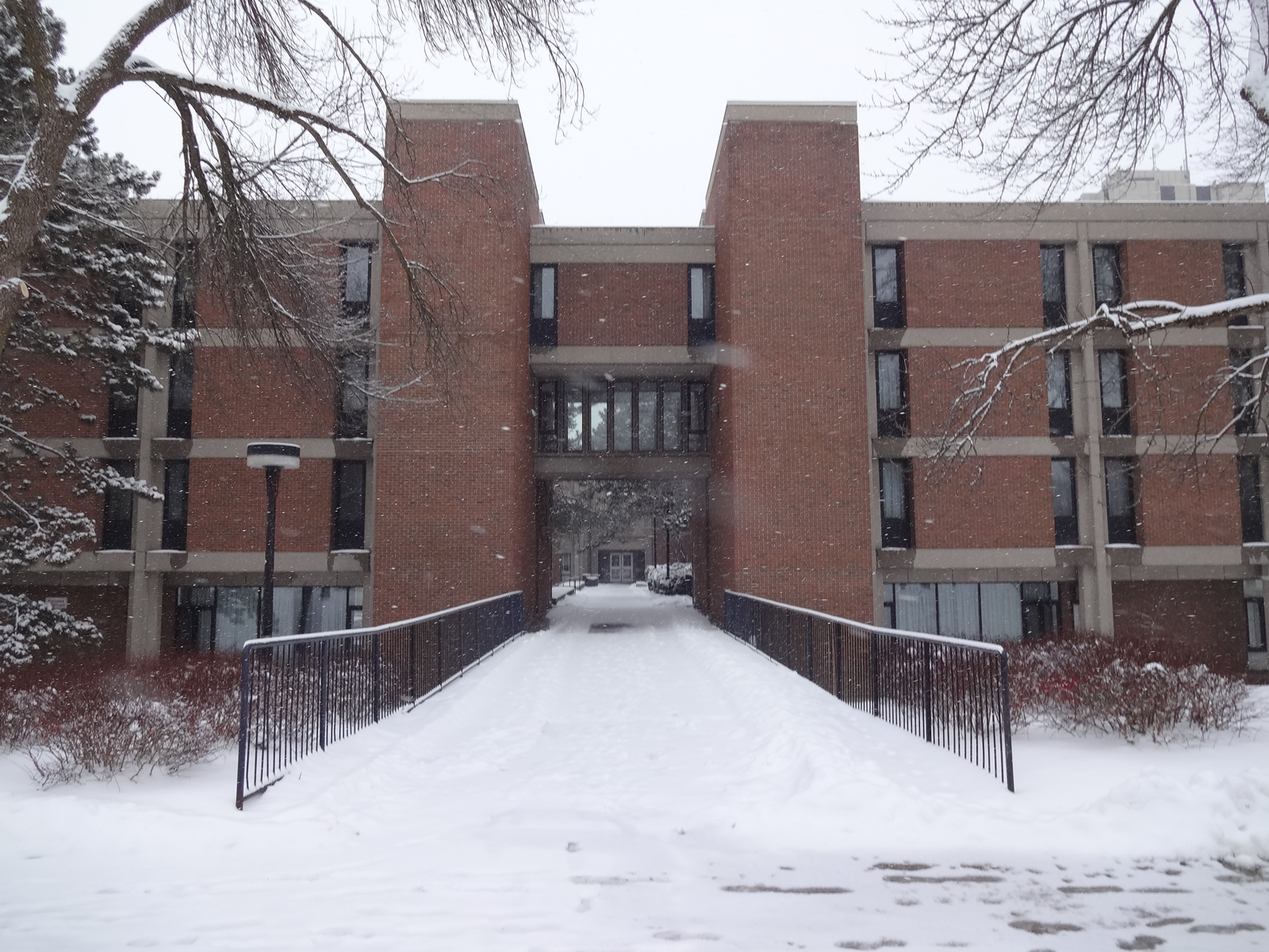fachada: (0, 90, 1269, 706)
poste: (230, 418, 317, 698)
